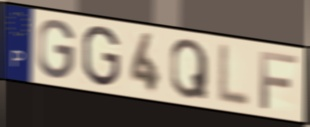4: (129, 31, 162, 96)
F: (258, 49, 299, 112)
G: (81, 24, 122, 89), (36, 18, 77, 81)
L: (215, 41, 253, 111)
Q: (168, 37, 210, 102)
